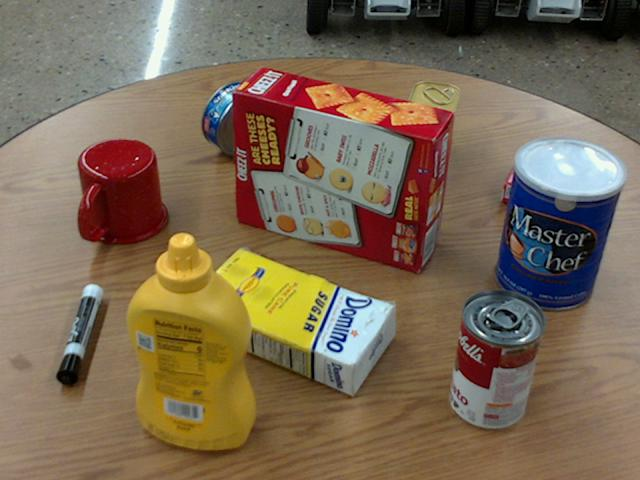cracker_box: (232, 68, 451, 272)
gelatin_box: (502, 147, 583, 216)
large_marker: (55, 284, 101, 382)
master_chef_can: (495, 136, 624, 309)
mug: (78, 139, 167, 243)
mustard_bottle: (124, 232, 252, 448)
potted_meat_can: (401, 81, 460, 182)
sugar_box: (185, 247, 395, 396)
tomato_soup_can: (449, 290, 545, 430)
tuna_fish_can: (200, 82, 272, 156)
